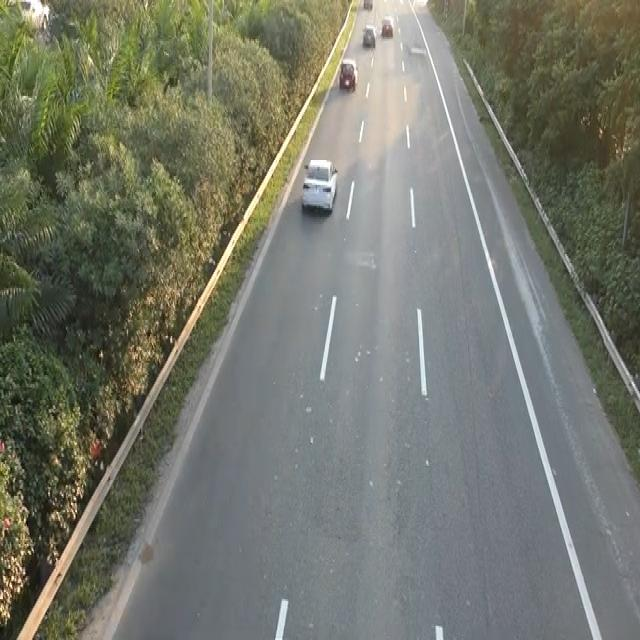bus: (299, 153, 341, 220), (338, 57, 358, 92)
